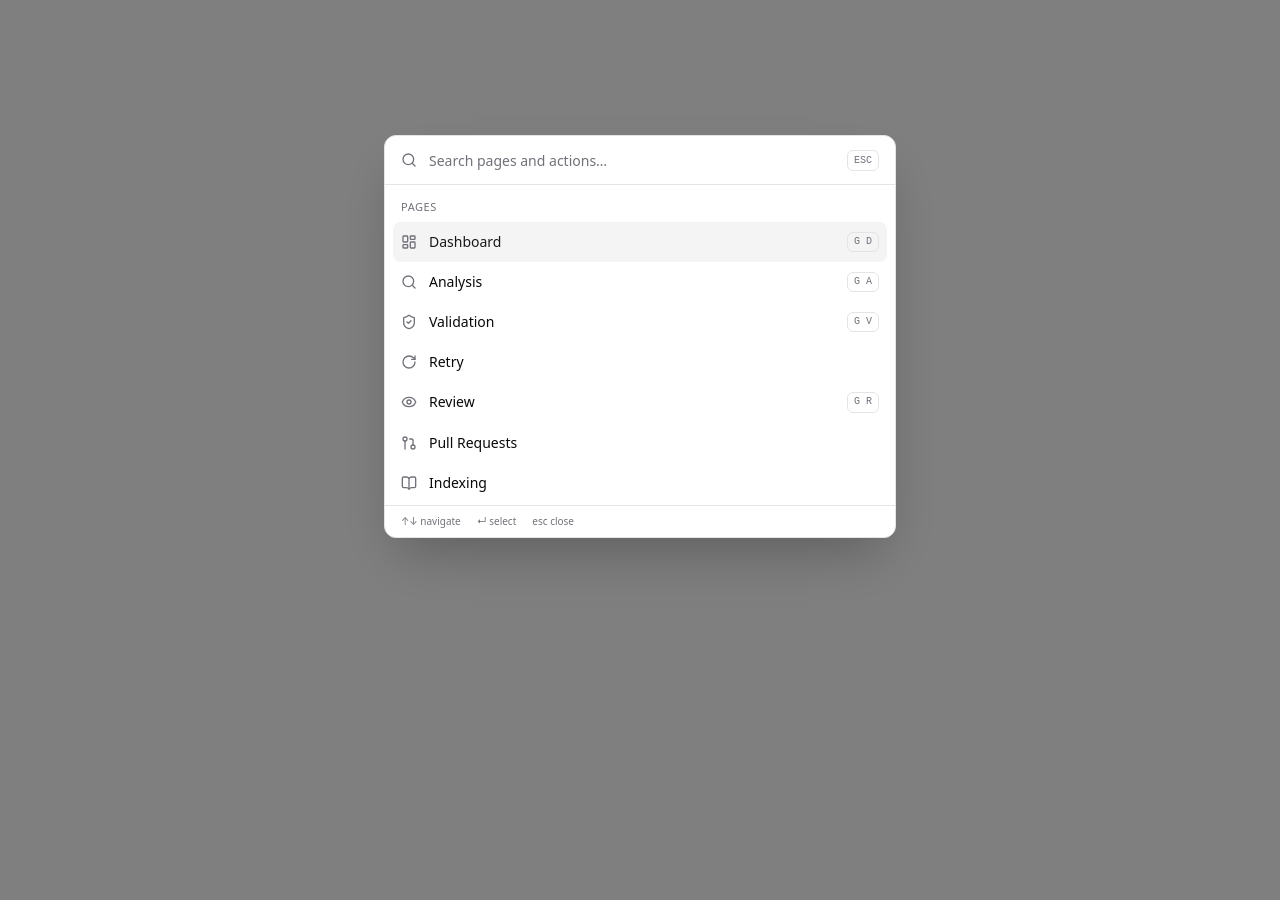
CommandPalette › filters commands based on query
Type "Dashboard" into the field with placeholder "Search pages and actions…".
click(632, 160); type("Dashboard")  # box [429,136,835,184]
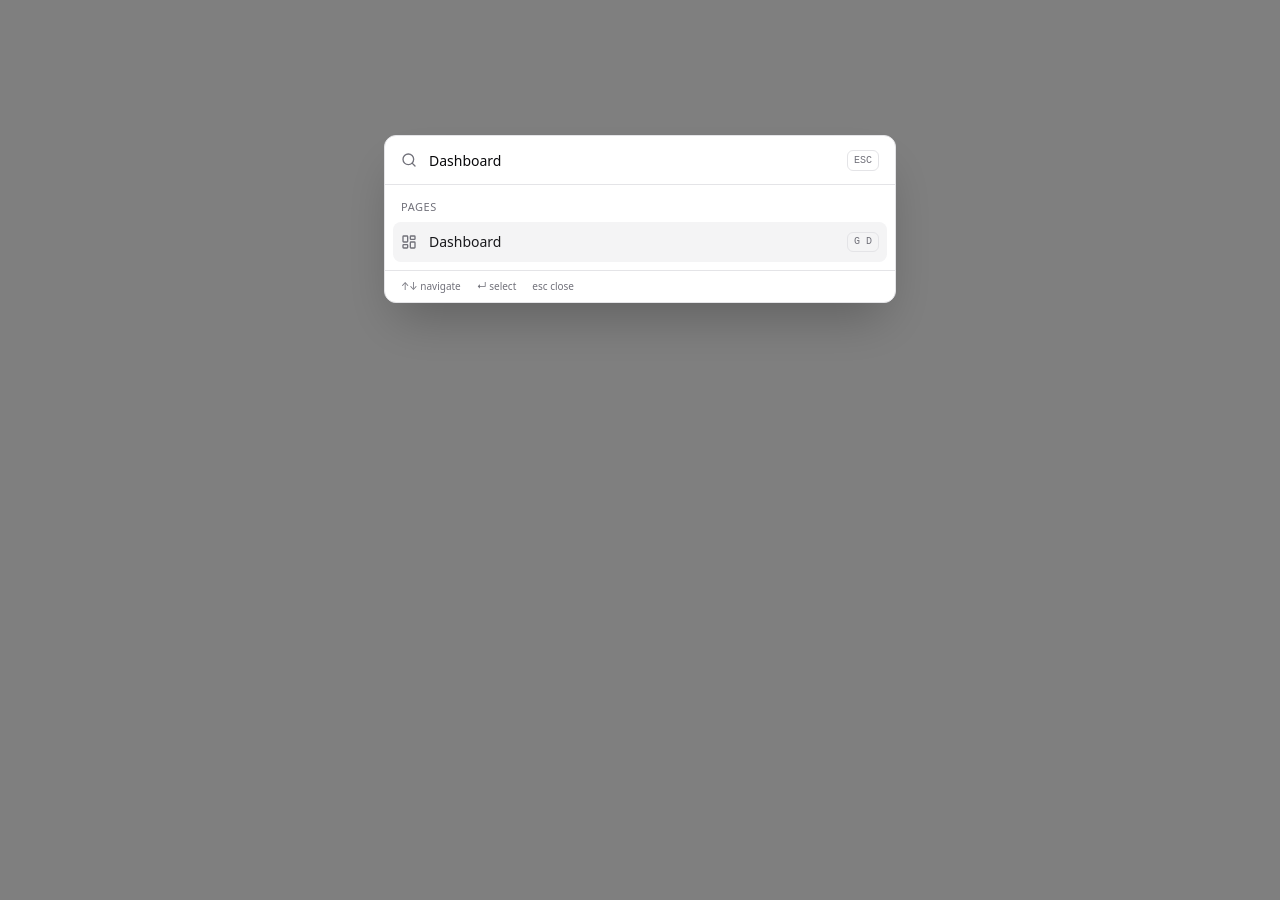
Expected: the text "Dashboard" is shown, [429,232,502,251]
Expected: the option "Analysis" is gone
